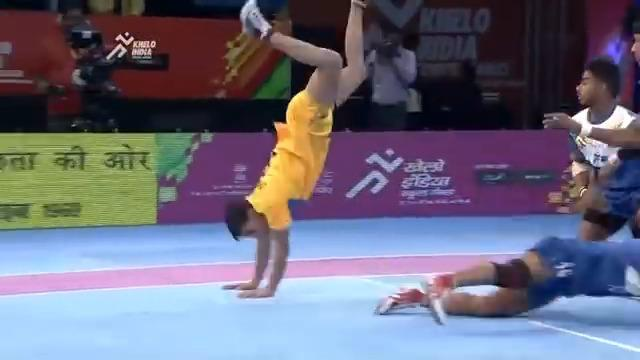Player: (374, 234, 639, 325), (542, 56, 639, 241), (615, 6, 639, 114)
Raider: (220, 0, 369, 299)
